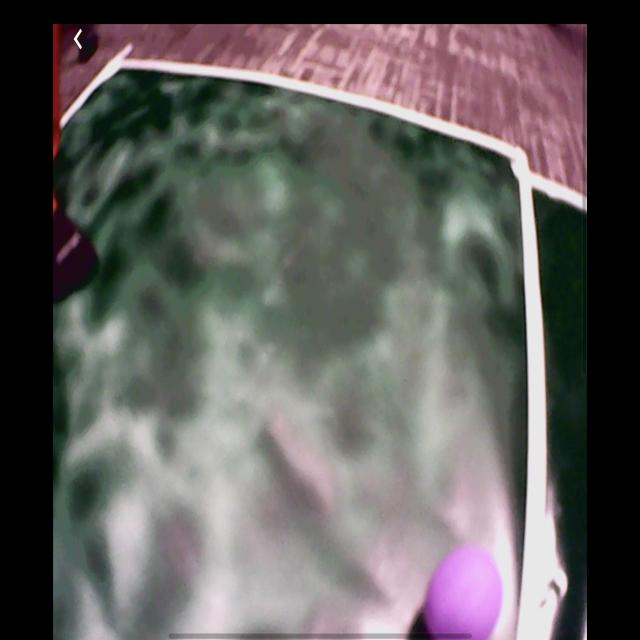ball: (424, 543, 505, 640)
